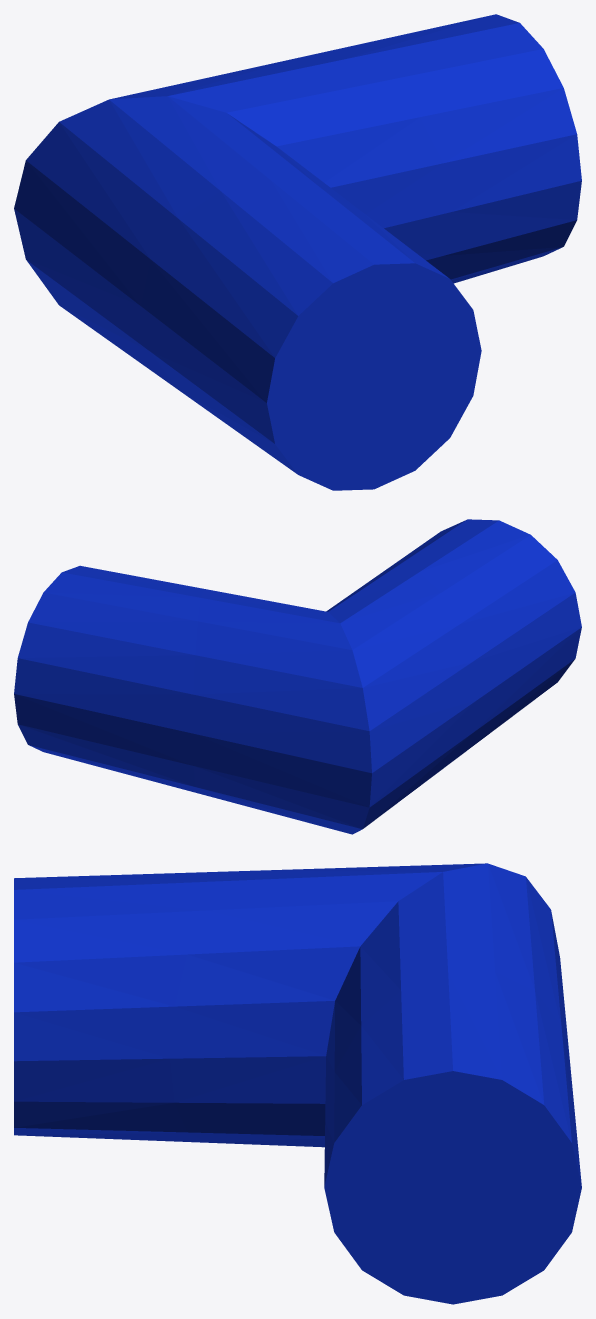
Rendered from Cable_turn.obj.
3 renders of one model, top to bottom at view 1: azimuth 30°, elevation 25°; view 2: azimuth 150°, elevation 25°; view 3: azimuth 270°, elevation 25°, orthographic. The views are drawn at different scales.
Parts seen in each view (by area): view 1: Cylinder; view 2: Cylinder; view 3: Cylinder.
Boxes of the visible parts, x1,y1,x2,y2 form: Cylinder: (14, 14, 581, 490); Cylinder: (14, 519, 581, 834); Cylinder: (14, 863, 581, 1304).
Bounding box in the file's own units: 0.9756 × 0.5211 × 0.9944.
